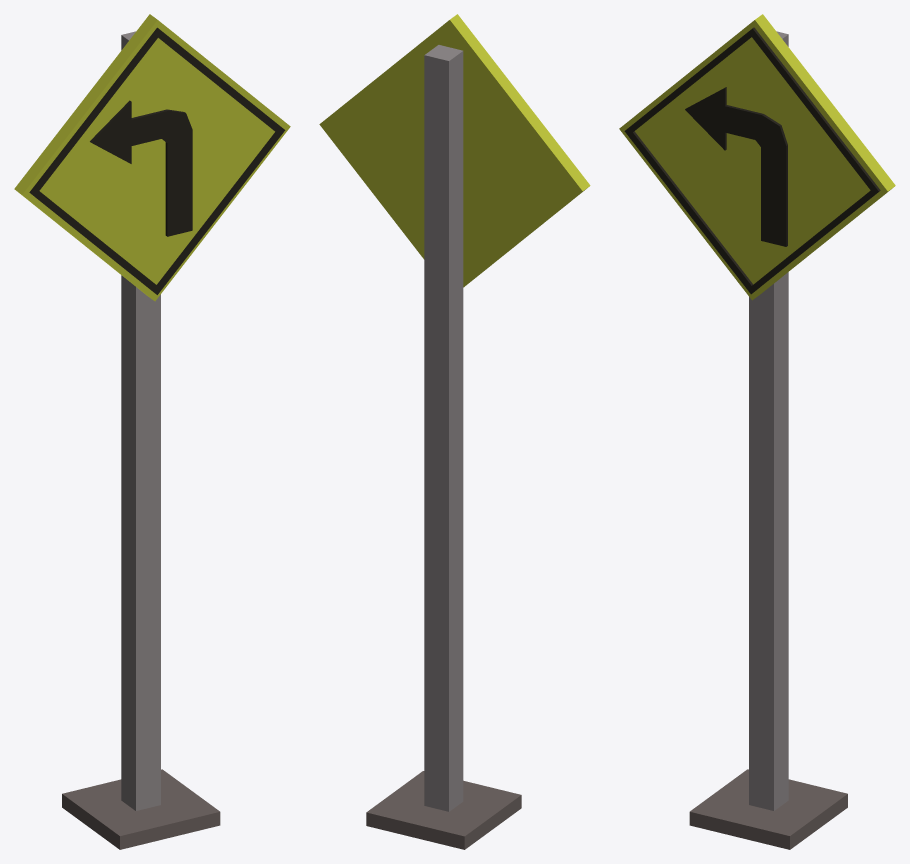
Rendered from RoadSign(2).fbx.
3 renders of one model, left to right at view 1: azimuth 30°, elevation 25°; view 2: azimuth 150°, elevation 25°; view 3: azimuth 330°, elevation 25°, orthographic. The views are drawn at different scales.
Parts seen in each view (by area): view 1: RoadSign(2); view 2: RoadSign(2); view 3: RoadSign(2).
Boxes of the visible parts, x1,y1,x2,y2 form: RoadSign(2): [14, 14, 290, 849]; RoadSign(2): [319, 14, 590, 849]; RoadSign(2): [619, 14, 895, 849].
Size of the model in its own units: 64.93 by 187 by 24.26.
